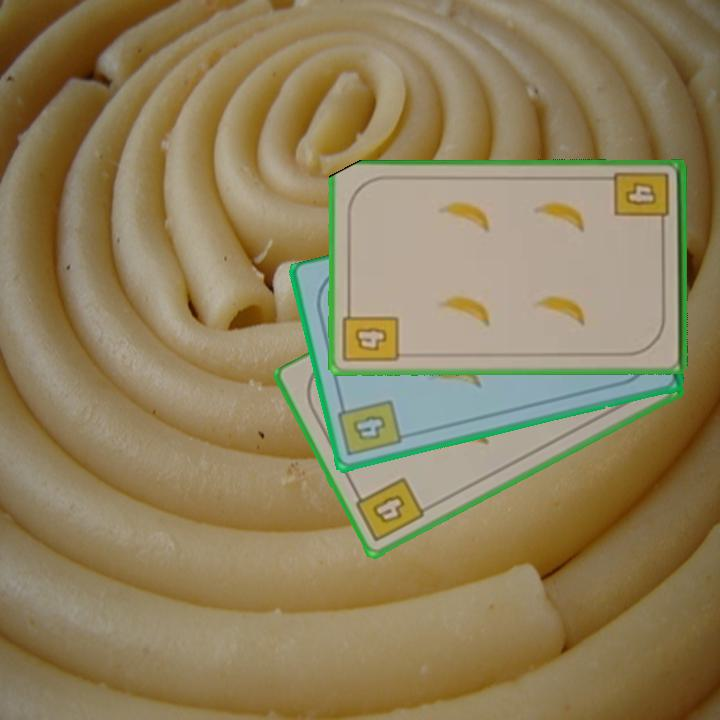4b: (350, 474, 428, 545), (335, 397, 405, 459), (612, 169, 673, 234), (340, 302, 401, 366)
